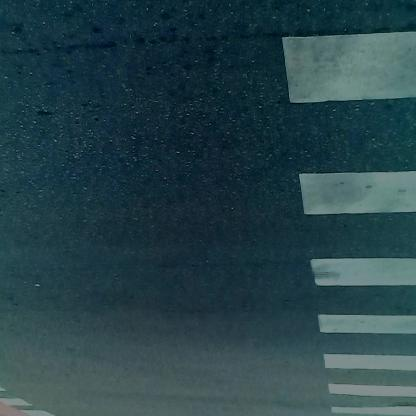crosswalk: (287, 1, 416, 411)
